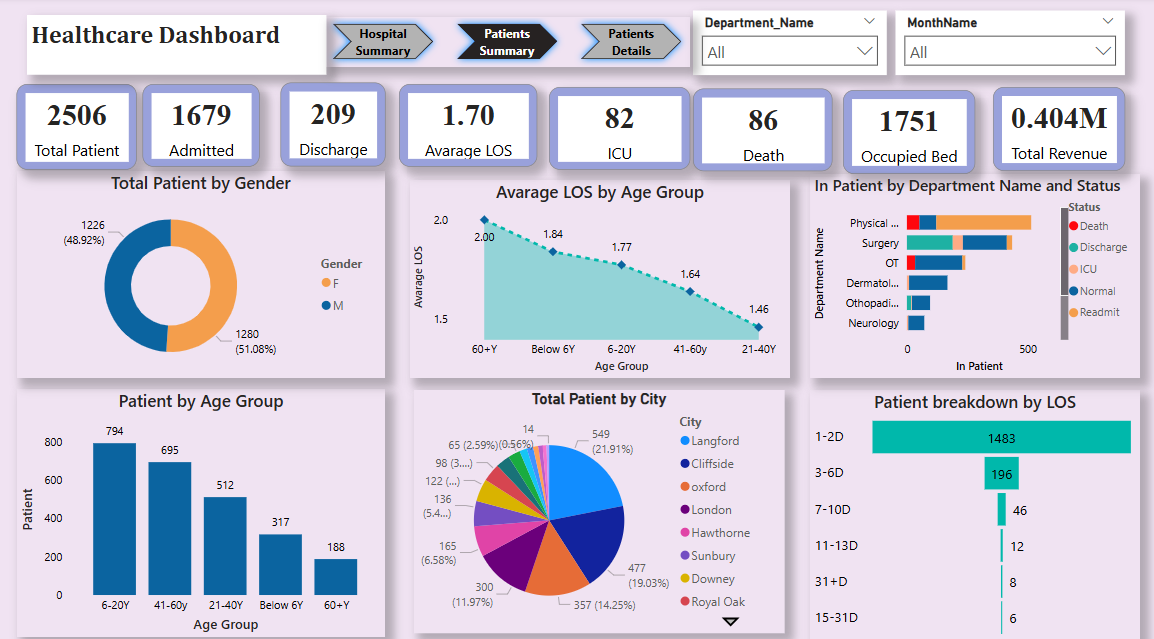

The dashboard page shown, as its layout file describes it:
{"tool":"powerbi","page":{"name":"Patients Summary ","canvas":[1280,720],"ordinal":1},"visuals":[{"type":"cardVisual","fields":{"Data":["Measure.Total Patient"]},"box":[21.5,96.1,132.5,94.4],"z":0},{"type":"textbox","box":[32.9,20.6,330.4,65.8],"z":1000},{"type":"slicer","fields":{"Values":["Department.Department_Name"]},"box":[769.2,15.1,213.9,71.3],"z":2000},{"type":"slicer","fields":{"Values":["Calendar_date.MonthName"]},"box":[992.6,15.1,253.6,71.3],"z":3000},{"type":"cardVisual","fields":{"Data":["Measure.In Patient"]},"box":[160.7,96.1,129.2,91.1],"z":4000},{"type":"cardVisual","fields":{"Data":["Measure.Total Discharge"]},"box":[313.1,94.4,116,92.8],"z":5000},{"type":"cardVisual","fields":{"Data":["Measure.Avarage LOS"]},"box":[443.9,96.1,152.4,91.1],"z":6000},{"type":"cardVisual","fields":{"Data":["Measure.ICU"]},"box":[609.6,99.4,155.7,91.1],"z":7000},{"type":"cardVisual","fields":{"Data":["Measure.Death"]},"box":[768.6,101,154.1,91.1],"z":8000},{"type":"cardVisual","fields":{"Data":["Measure.Occupied Bed"]},"box":[934.3,102.7,145.8,92.8],"z":9000},{"type":"cardVisual","fields":{"Data":["Measure.Total Revenue"]},"box":[1099.9,99.4,145.8,92.8],"z":10000},{"type":"donutChart","fields":{"Category":["Detail data dataset.Gender"],"Y":["Measure.Total Patient"]},"box":[20.8,191.9,407.1,228.6],"z":11000},{"type":"columnChart","fields":{"Y":["Measure.Total Patient"],"Category":["Detail data dataset.Age Bucket"]},"box":[21.5,432.3,407.5,275],"z":12000},{"type":"areaChart","fields":{"Y":["Measure.Avarage LOS"],"Category":["Detail data dataset.Age Bucket"]},"box":[455.5,202.1,420.7,218.7],"z":13000},{"type":"barChart","fields":{"Category":["Department.Department_Name"],"Y":["Measure.In Patient"],"Series":["Detail data dataset.Status"]},"box":[897.8,195.5,364.4,225.3],"z":14000},{"type":"funnel","title":"Patient breakdown by LOS","fields":{"Y":["Measure.Total Patient"],"Category":["Detail data dataset.Custom"]},"box":[897.8,434,364.4,278.3],"z":15000},{"type":"pieChart","fields":{"Category":["Detail data dataset.City"],"Y":["Measure.Total Patient"]},"box":[460.5,434,409.2,268.3],"z":16000},{"type":"pageNavigator","box":[363.1,20.8,402.2,55],"z":17000}]}

Visuals, with their boxes in screenshot pixels (x1, y1, x2, y2), scaled from the page's 1280x720 canvas onto the 1154x639 screenshot:
cardVisual - Measure.Total Patient: [x1=19, y1=85, x2=139, y2=169]
textbox: [x1=30, y1=18, x2=328, y2=77]
slicer - Department.Department_Name: [x1=693, y1=13, x2=886, y2=77]
slicer - Calendar_date.MonthName: [x1=895, y1=13, x2=1124, y2=77]
cardVisual - Measure.In Patient: [x1=145, y1=85, x2=261, y2=166]
cardVisual - Measure.Total Discharge: [x1=282, y1=84, x2=387, y2=166]
cardVisual - Measure.Avarage LOS: [x1=400, y1=85, x2=538, y2=166]
cardVisual - Measure.ICU: [x1=550, y1=88, x2=690, y2=169]
cardVisual - Measure.Death: [x1=693, y1=90, x2=832, y2=170]
cardVisual - Measure.Occupied Bed: [x1=842, y1=91, x2=974, y2=174]
cardVisual - Measure.Total Revenue: [x1=992, y1=88, x2=1123, y2=171]
donutChart - Detail data dataset.Gender x Measure.Total Patient: [x1=19, y1=170, x2=386, y2=373]
columnChart - Measure.Total Patient x Detail data dataset.Age Bucket: [x1=19, y1=384, x2=387, y2=628]
areaChart - Measure.Avarage LOS x Detail data dataset.Age Bucket: [x1=411, y1=179, x2=790, y2=373]
barChart - Department.Department_Name x Measure.In Patient: [x1=809, y1=174, x2=1138, y2=373]
"Patient breakdown by LOS" funnel: [x1=809, y1=385, x2=1138, y2=632]
pieChart - Detail data dataset.City x Measure.Total Patient: [x1=415, y1=385, x2=784, y2=623]
pageNavigator: [x1=327, y1=18, x2=690, y2=67]
